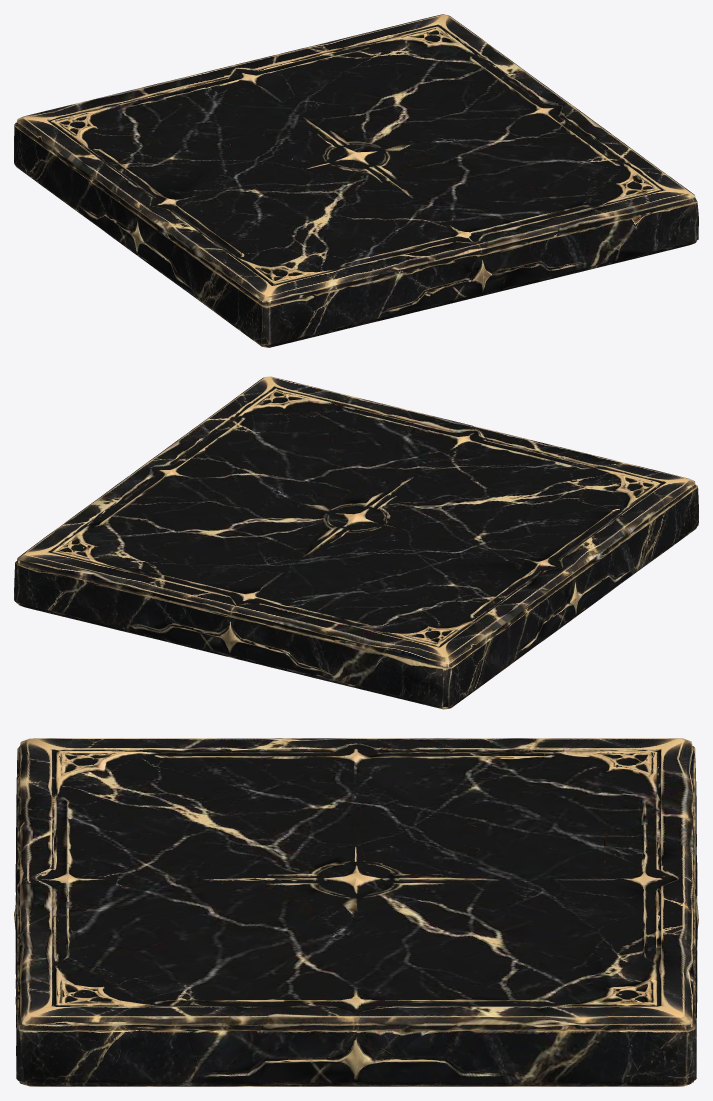
The model's file is marble-tile.glb.
The picture shows the model from 3 angles, top to bottom: view 1: azimuth 30°, elevation 25°; view 2: azimuth 150°, elevation 25°; view 3: azimuth 270°, elevation 25°; orthographic projection. The views are drawn at different scales.
Size of the model in its own units: 1.9 by 0.2246 by 1.9.
Materials: 1 (1 with a texture image).
